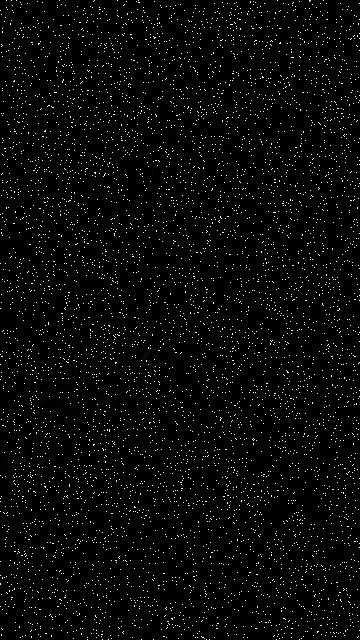pot: (31, 219, 200, 385)
